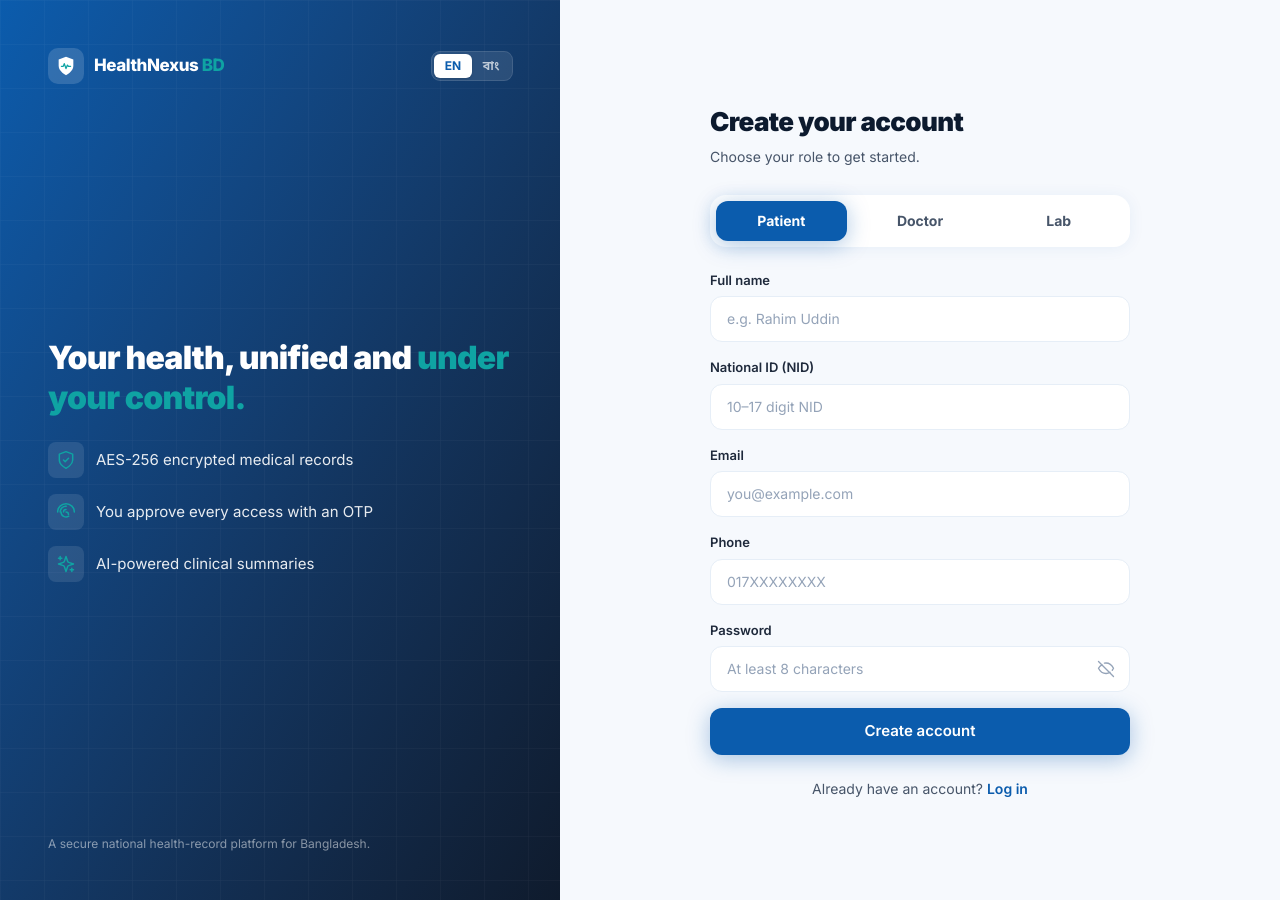
it: auth & landing pages in en › register validation errors are translated
Click the button "Create account".
click(920, 731)  # box [710,708,1130,754]
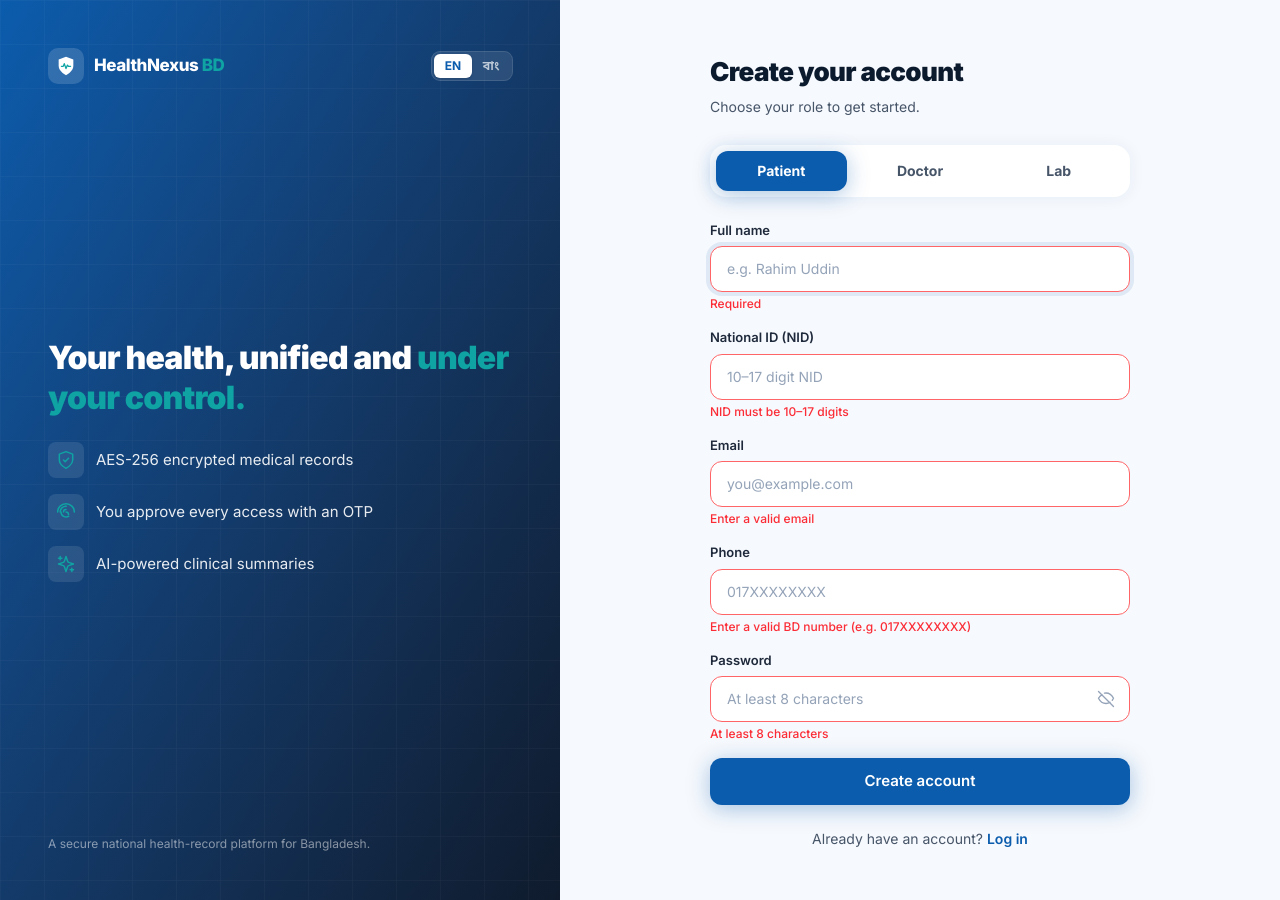
Result: the text "Enter a valid email" is shown at [710,511,814,526]
Result: the text "NID must be 10–17 digits" is shown at [710,404,849,418]
